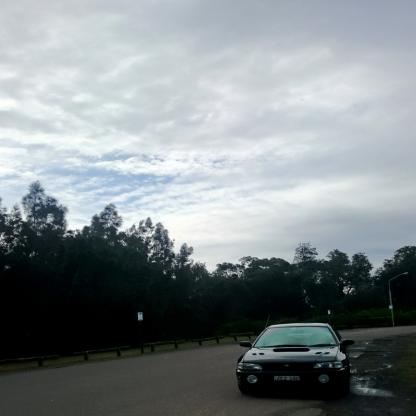Car: (236, 322, 357, 395)
